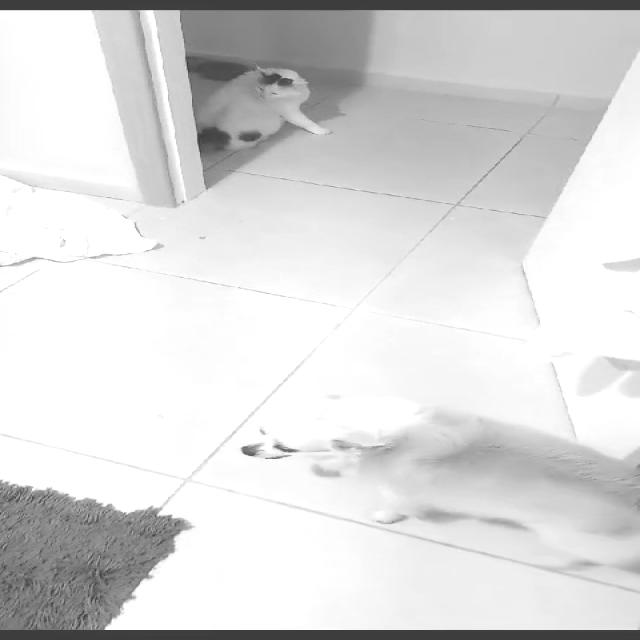Simba: (205, 48, 341, 170)
Theo: (206, 380, 638, 604)
